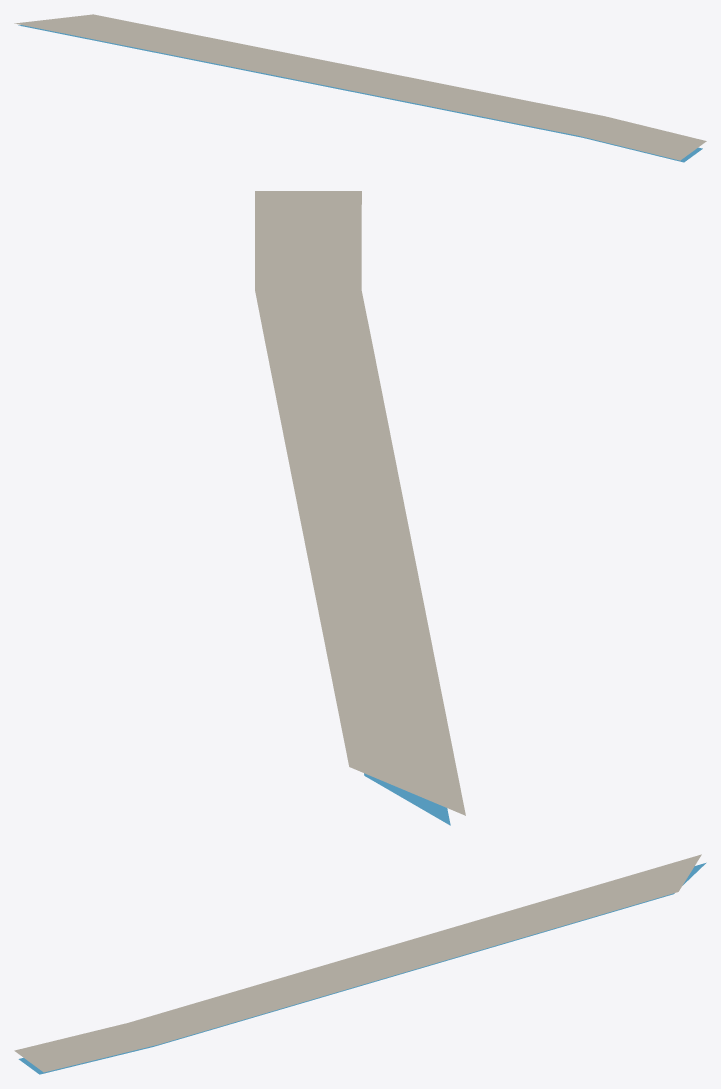
3 views of the same model, one above another, from view 1: azimuth 30°, elevation 25°; view 2: azimuth 150°, elevation 25°; view 3: azimuth 270°, elevation 25° (orthographic). The views are drawn at different scales.
Parts seen in each view (by area): view 1: estructura_terreno, estructura_agua; view 2: estructura_terreno; view 3: estructura_terreno, estructura_agua.
Part boxes in pixels (x1=…): estructura_terreno: x1=14, y1=14, x2=706, y2=160; estructura_agua: x1=18, y1=25, x2=702, y2=162; estructura_terreno: x1=255, y1=191, x2=465, y2=815; estructura_terreno: x1=14, y1=854, x2=701, y2=1072; estructura_agua: x1=18, y1=862, x2=706, y2=1074.
Size of the model in its own units: 36.29 by 0.41 by 48.7.
